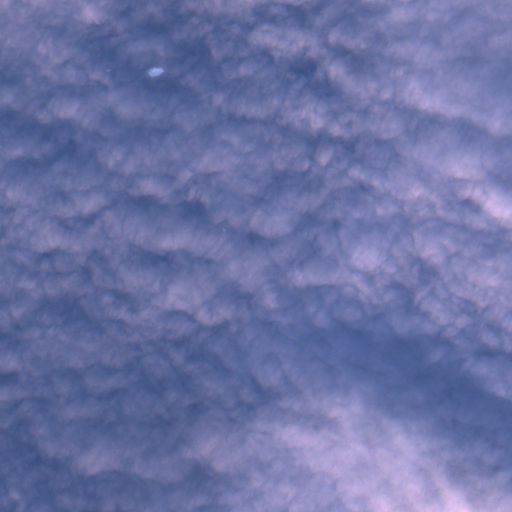Iceberg: (148, 67, 163, 76)
